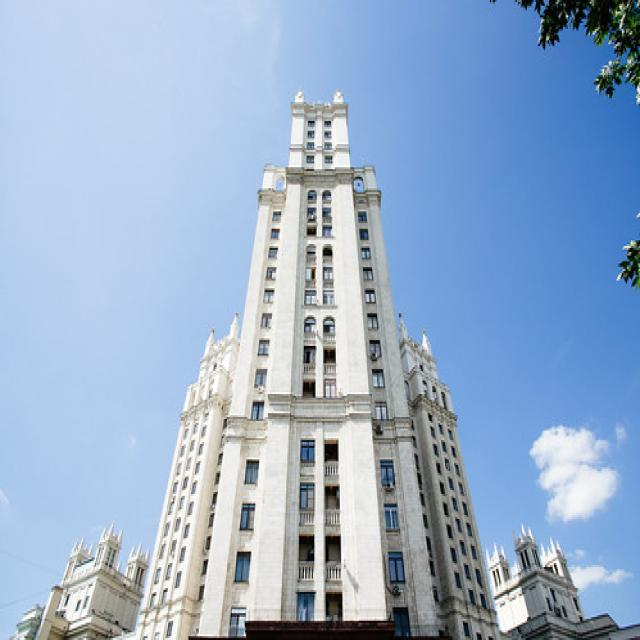building: (147, 82, 505, 640)
